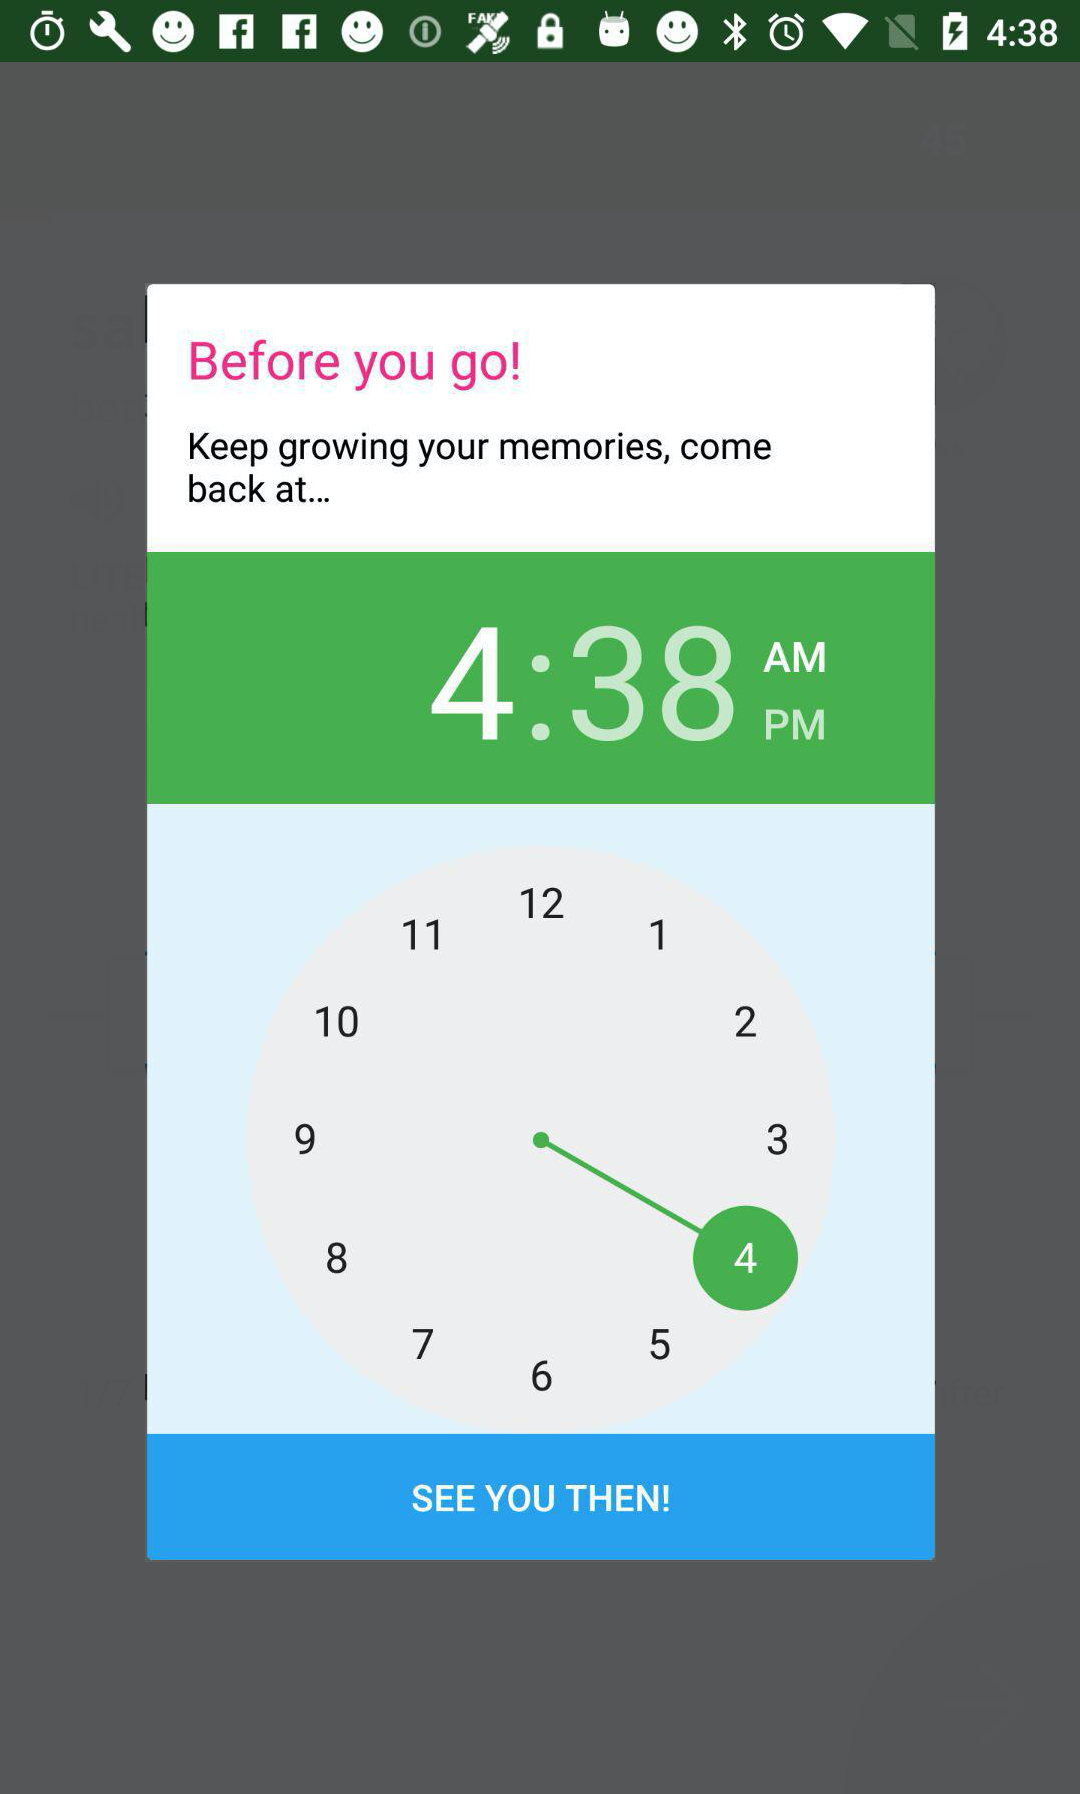Image: (242, 844, 838, 1434)
Modal: (146, 284, 935, 1561)
Text: (188, 431, 774, 505), (429, 627, 735, 746), (190, 340, 521, 393), (760, 639, 826, 675), (764, 709, 825, 742)
TextButton: (146, 1434, 935, 1561)
UpperTaskBar: (1, 1, 1080, 64)
